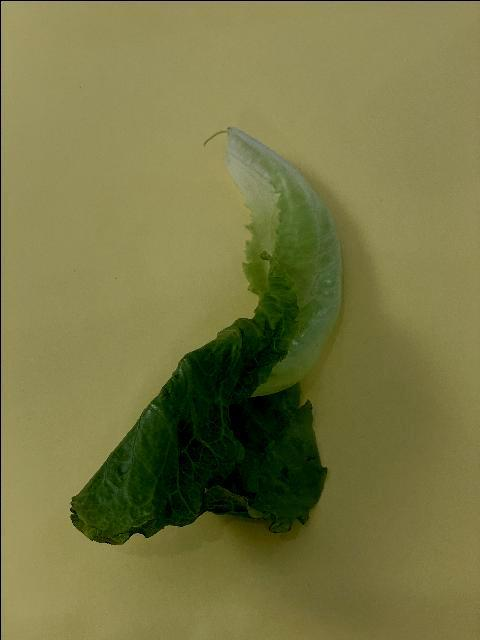lettuce: (67, 122, 347, 548)
